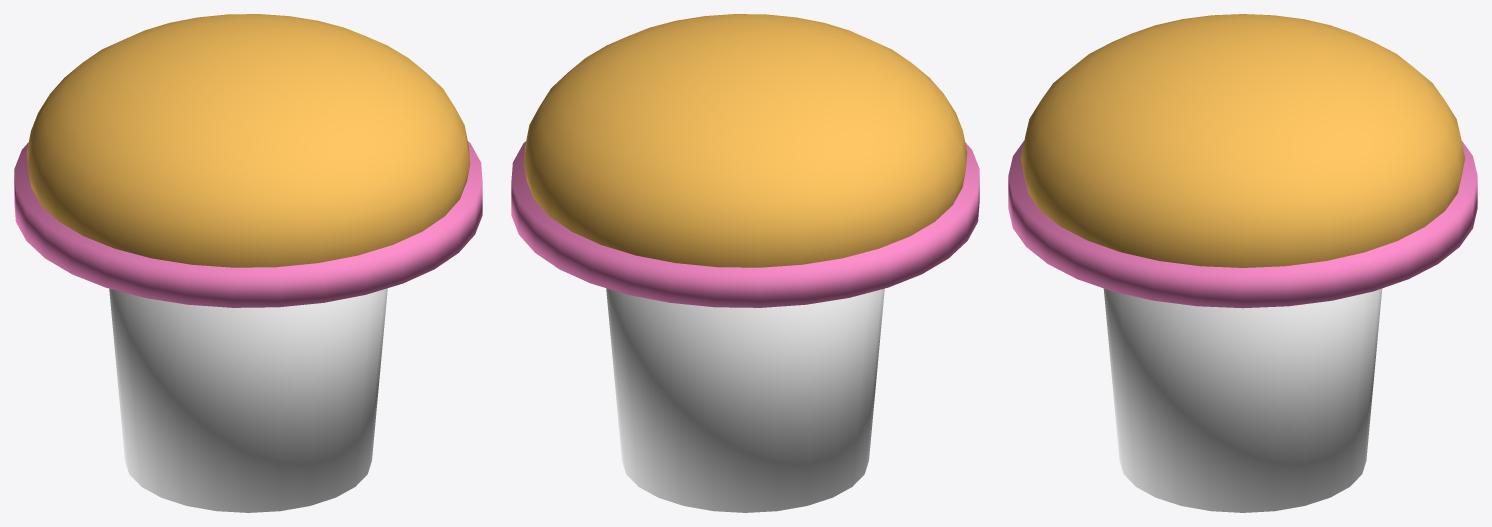
File: bumper.glb
The picture shows the model from 3 angles, left to right: view 1: azimuth 30°, elevation 25°; view 2: azimuth 150°, elevation 25°; view 3: azimuth 270°, elevation 25°; orthographic projection.
Parts seen in each view (by area): view 1: BumperHead, BumperStem, BumperRing; view 2: BumperHead, BumperStem, BumperRing; view 3: BumperHead, BumperStem, BumperRing.
Boxes of the visible parts, x1,y1,x2,y2 form: BumperHead: (26,14,470,267); BumperStem: (109,288,387,512); BumperRing: (14,141,482,307); BumperHead: (523,14,967,267); BumperStem: (606,288,884,512); BumperRing: (511,141,979,307); BumperHead: (1020,14,1465,267); BumperStem: (1103,288,1382,512); BumperRing: (1008,141,1477,308).
Size of the model in its own units: 1.9 by 1.85 by 1.9.
